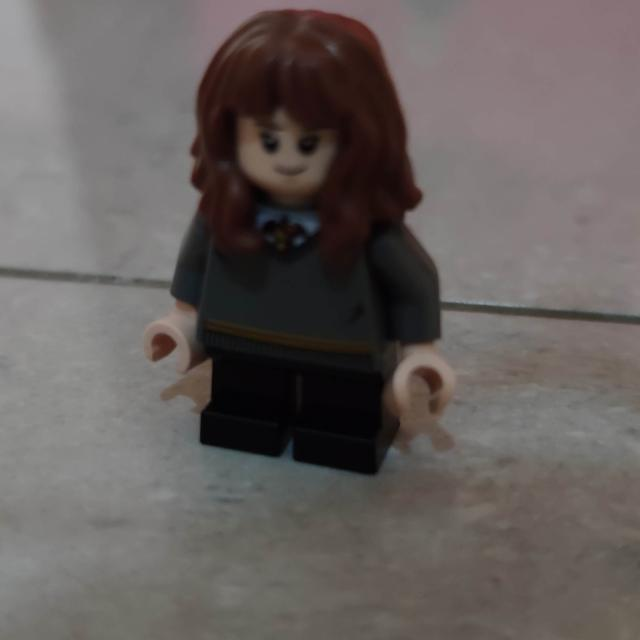lego: (144, 8, 455, 477)
